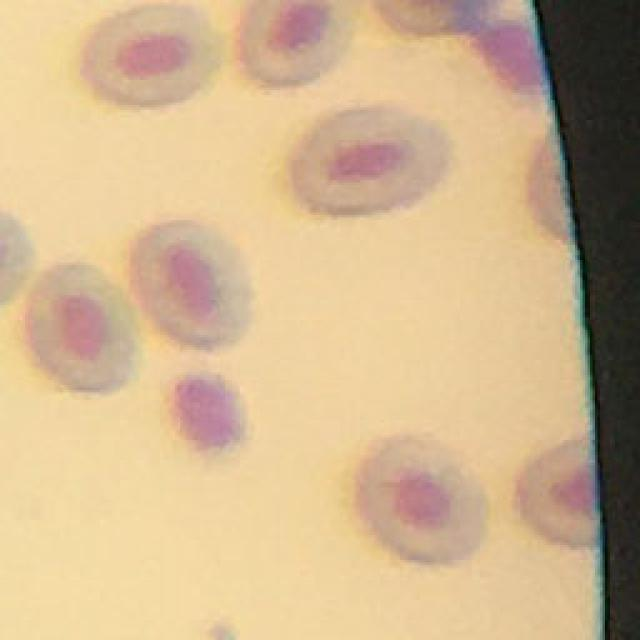RBC: (288, 102, 455, 220), (352, 430, 491, 567), (126, 216, 257, 353), (23, 263, 145, 396), (79, 3, 223, 110), (236, 0, 354, 92), (514, 434, 598, 550)
WBC: (169, 371, 249, 457), (474, 20, 544, 98)
